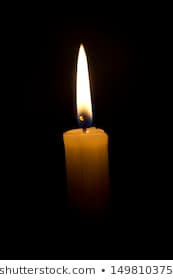Fire: (70, 44, 100, 123)
